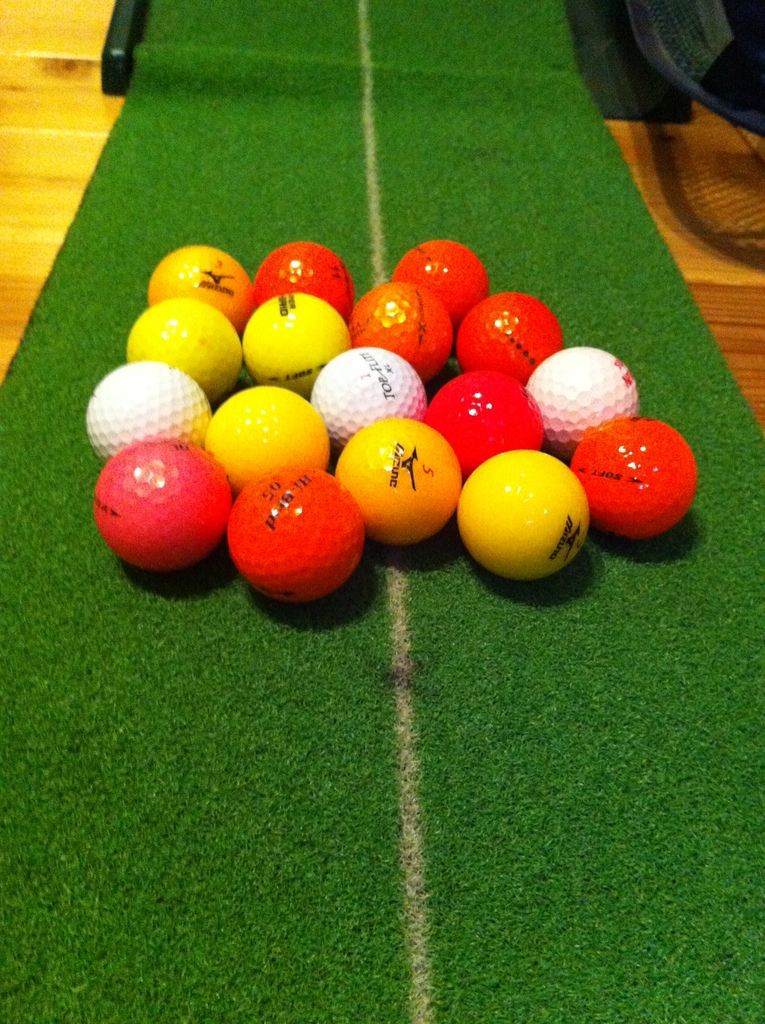Ball: (87, 236, 703, 615)
